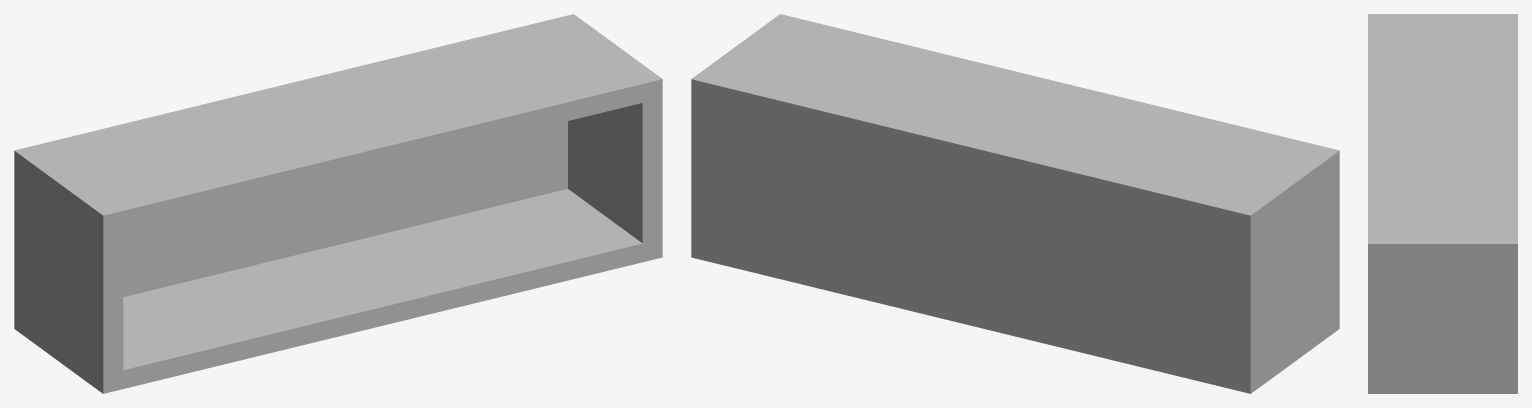
The model's file is Itr_Wardrobe4_Body1_06.FBX.
The picture shows the model from 3 angles, left to right: view 1: azimuth 30°, elevation 25°; view 2: azimuth 150°, elevation 25°; view 3: azimuth 270°, elevation 25°; orthographic projection. The views are drawn at different scales.
Visible parts, largest first — view 1: Itr_Wardrobe4_Body1_06; view 2: Itr_Wardrobe4_Body1_06; view 3: Itr_Wardrobe4_Body1_06.
Part boxes in pixels (left/top/right/bottom): Itr_Wardrobe4_Body1_06: left=14, top=14, right=662, bottom=393; Itr_Wardrobe4_Body1_06: left=691, top=14, right=1339, bottom=393; Itr_Wardrobe4_Body1_06: left=1368, top=14, right=1517, bottom=393.
Bounding box in the file's own units: 59.06 × 17.98 × 16.27.
